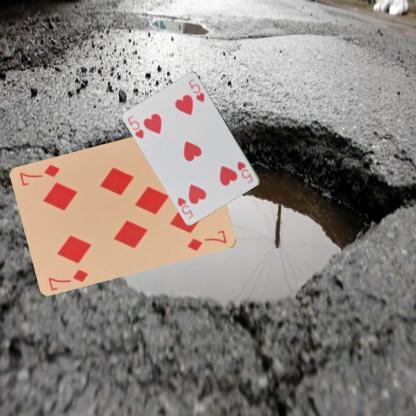5h: (125, 114, 145, 140), (235, 158, 254, 185)
7d: (46, 266, 90, 291)
